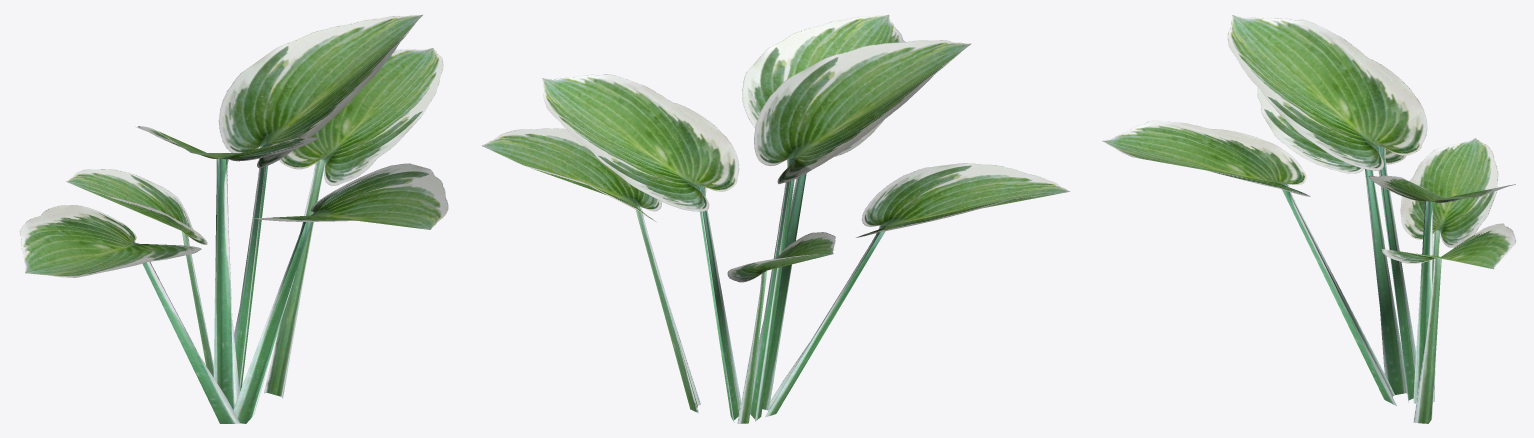
Rendered from plant_small_wg_05AA1.fbx.
3 renders of one model, left to right at view 1: azimuth 30°, elevation 25°; view 2: azimuth 150°, elevation 25°; view 3: azimuth 270°, elevation 25°, orthographic. The views are drawn at different scales.
Visible parts, largest first — view 1: plant_small_wg_05AA1; view 2: plant_small_wg_05AA1; view 3: plant_small_wg_05AA1.
Boxes of the visible parts, left/top/right/bottom form: plant_small_wg_05AA1: left=19, top=14, right=448, bottom=423; plant_small_wg_05AA1: left=482, top=14, right=1069, bottom=423; plant_small_wg_05AA1: left=1102, top=15, right=1516, bottom=423.
Size of the model in its own units: 50.24 by 33.46 by 39.13.
